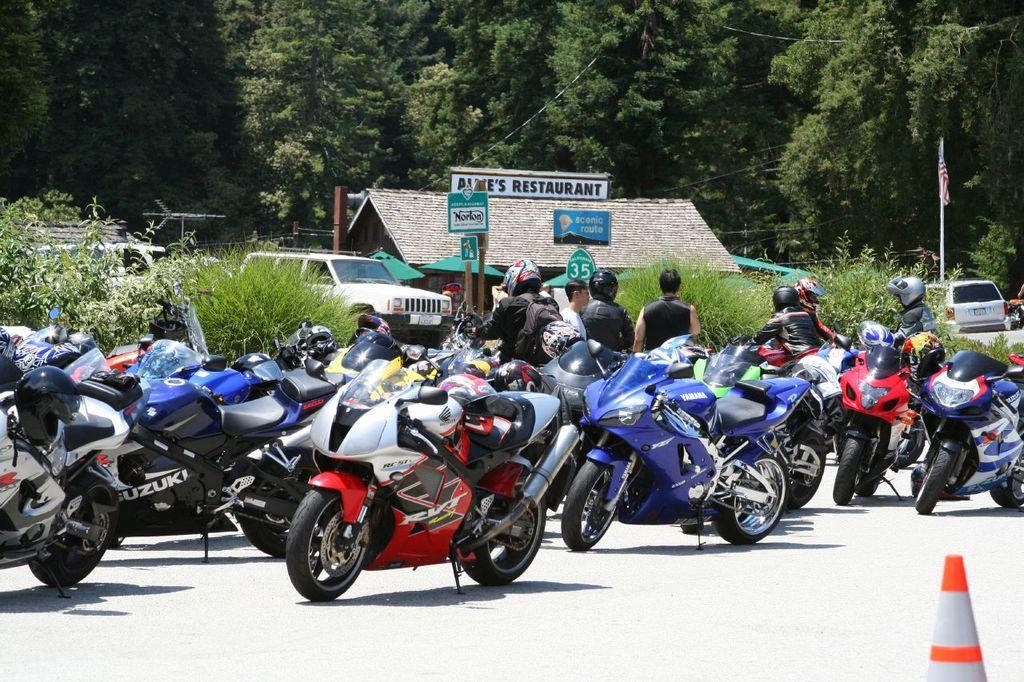helmet: (14, 366, 88, 447), (431, 373, 499, 436), (494, 359, 547, 409), (899, 330, 946, 385), (657, 334, 710, 378), (495, 259, 542, 303), (540, 320, 585, 359), (790, 277, 827, 314), (885, 275, 926, 308), (355, 314, 391, 346), (305, 325, 338, 357), (588, 269, 619, 302), (772, 285, 800, 313)
nohelmet: (564, 279, 591, 310), (658, 268, 682, 301)
